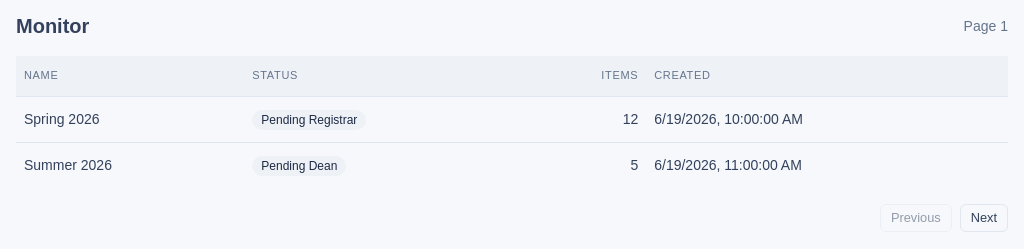
Test case: MonitorPage › renders both pages of results and advances via the Next button
Expected: the text "Spring 2026" is shown, [16, 96, 244, 142]
Expected: the text "Summer 2026" is shown, [16, 142, 244, 188]
Note: Advance to page 2 → only one row, so Next becomes disabled.
Click the button with test id "monitor-next" at coordinates (984, 218), box [960, 204, 1008, 232]
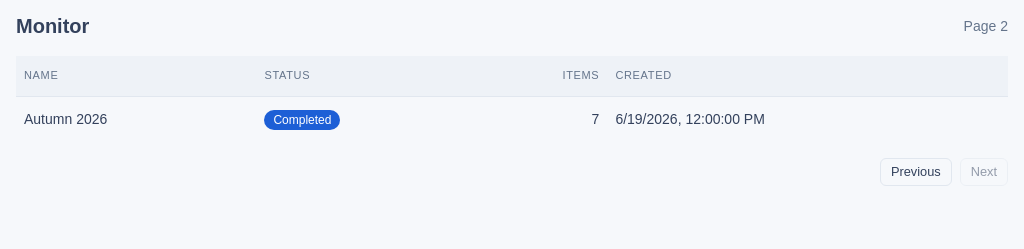
Now the text "Autumn 2026" is shown, box [16, 96, 256, 142]
Now the button "Spring 2026" is gone
Now the button with test id "monitor-prev" is enabled, box [880, 158, 952, 186]
